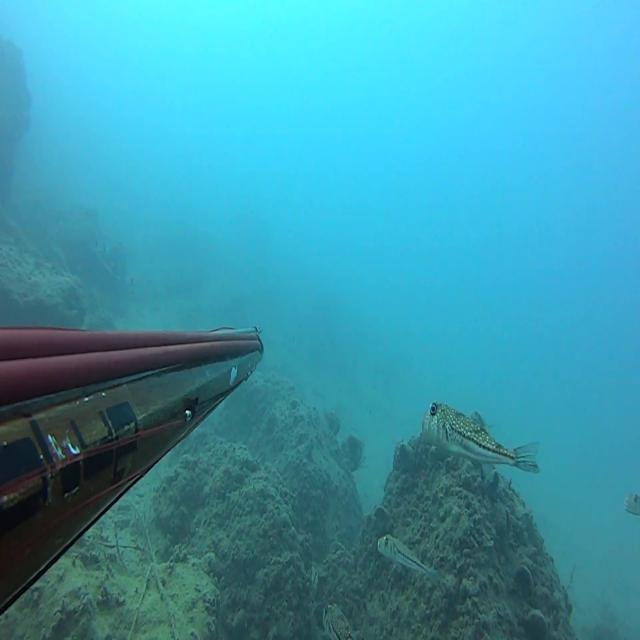Balon Baligi: (418, 399, 540, 474), (378, 533, 440, 584), (322, 602, 354, 640), (624, 493, 640, 517)
